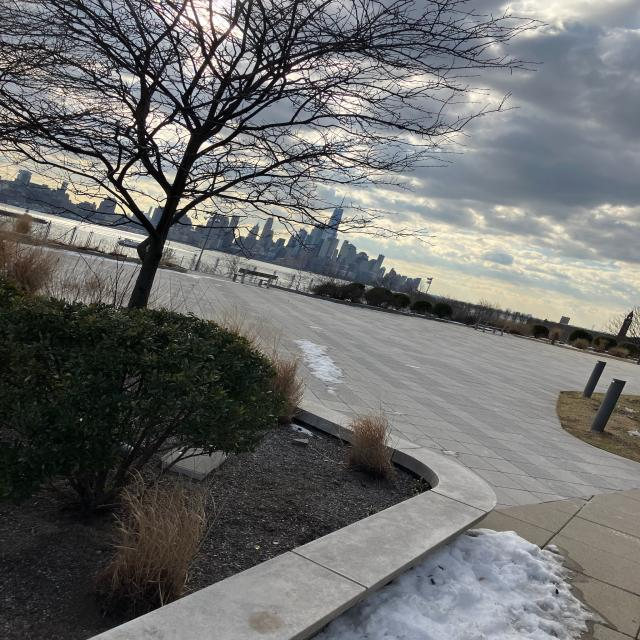WTC: (322, 191, 350, 238)
